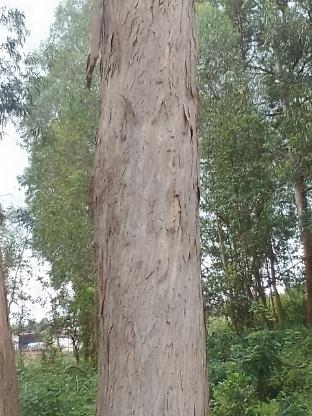tree: (80, 0, 213, 416)
